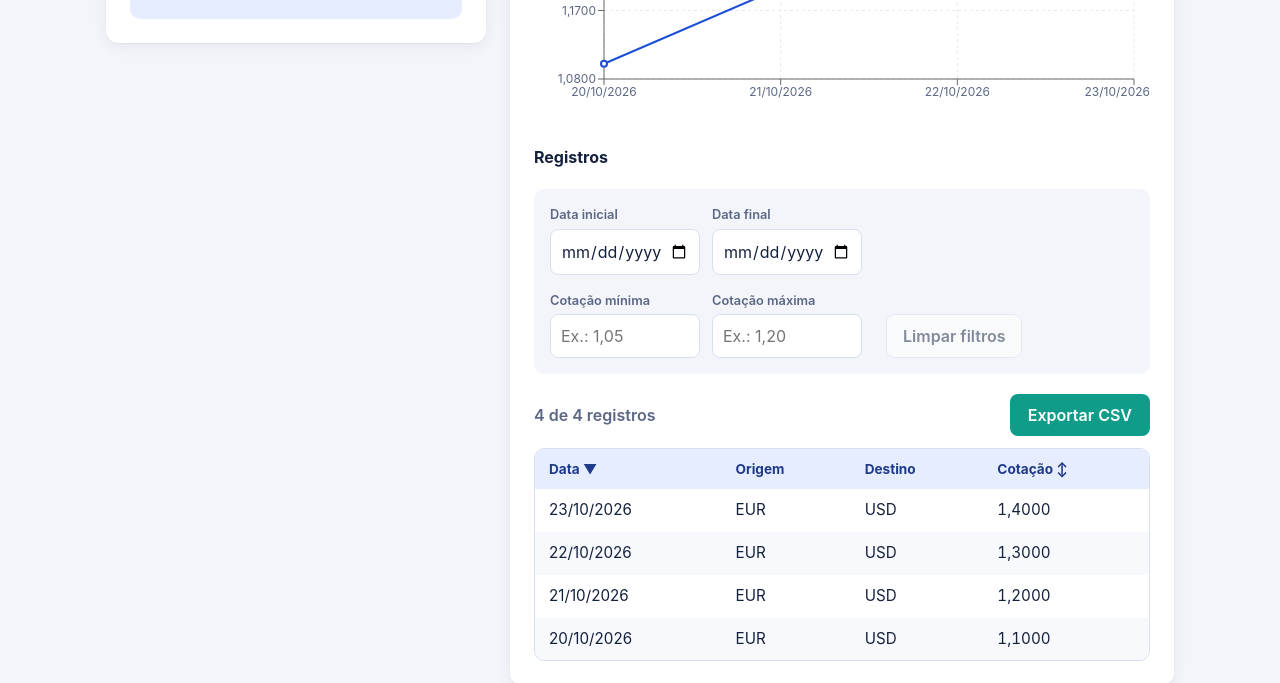
App (integração com fetch simulado) › limpa os filtros
(page scrolled)
Expected: the text "4 de 4 registros" is shown, [534,403,656,427]
Type "1,35" into the field labelled "Cotação mínima" at (625, 336), box [550,314,700,358]
(page scrolled)
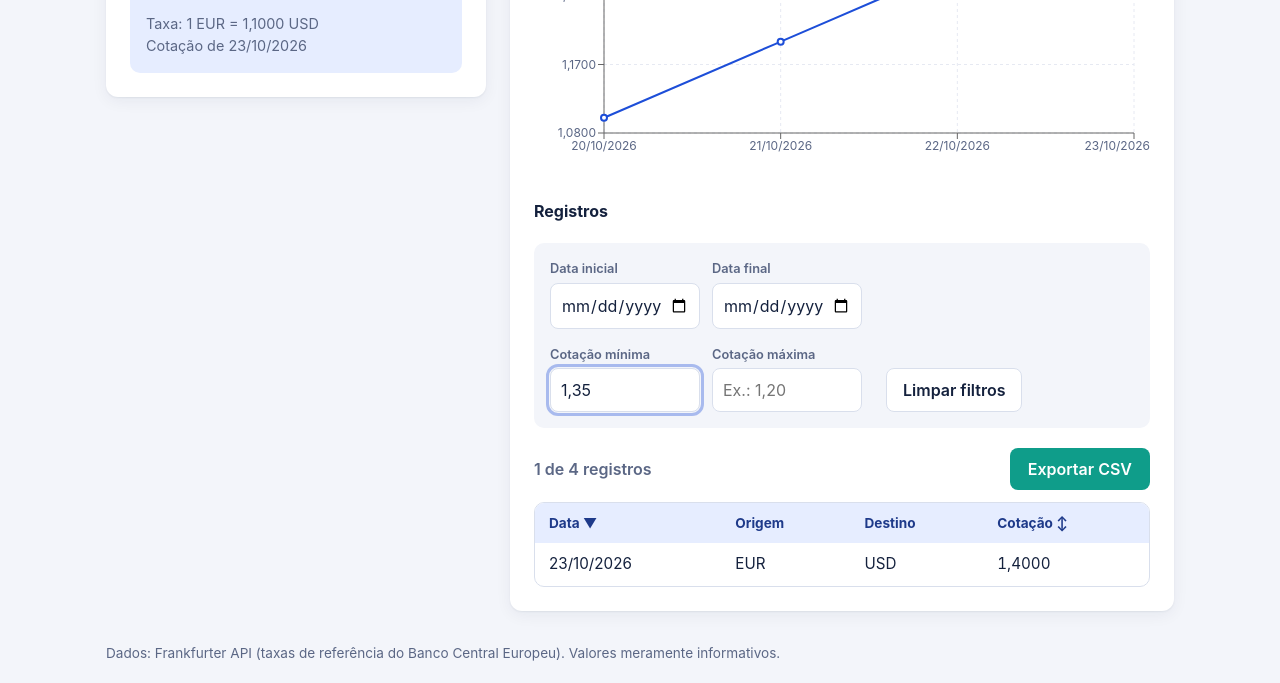
Now the text "1 de 4 registros" is shown, box [534,457,652,481]
Click the button "Limpar filtros" at (954, 390), box [886,368,1022,412]
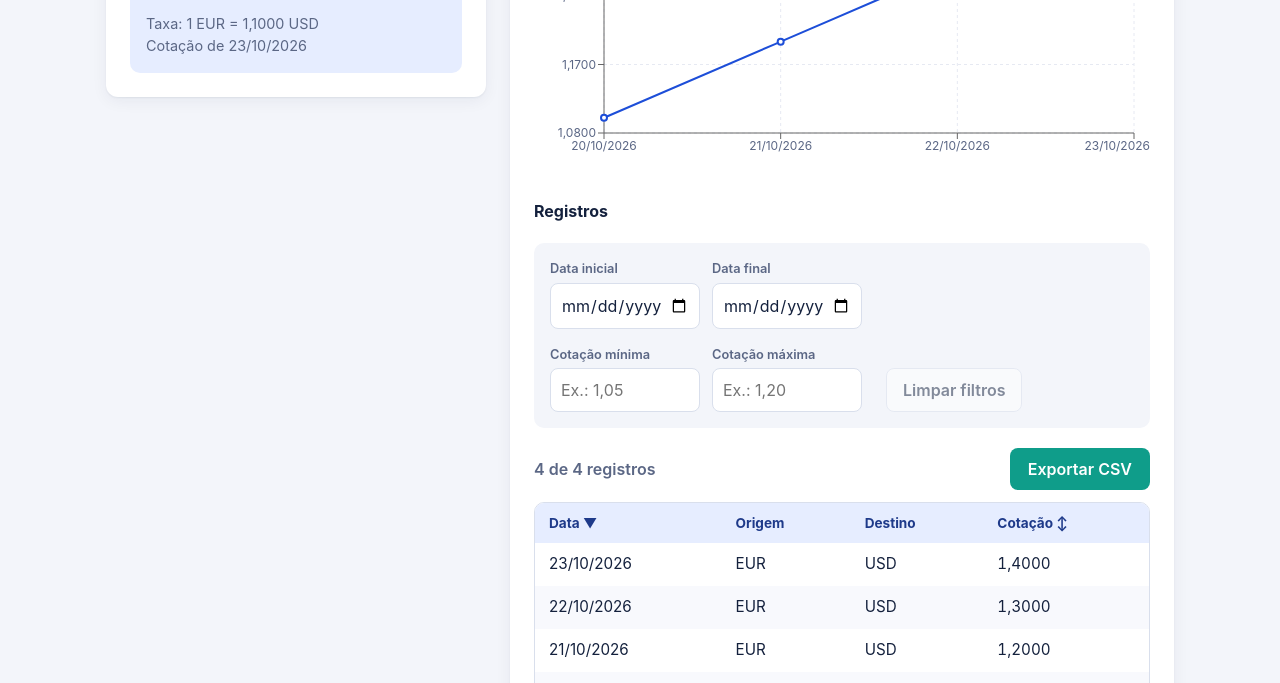
Now the text "4 de 4 registros" is shown, box [534,457,656,481]
